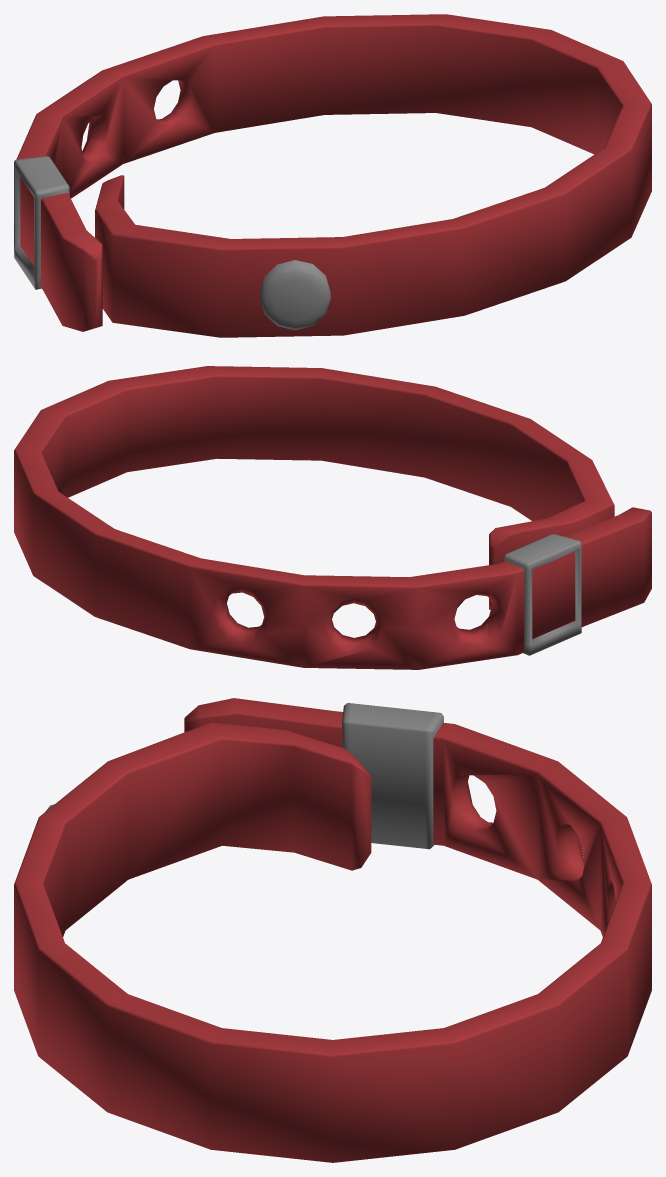
The model's file is collar.fbx.
3 renders of one model, top to bottom at view 1: azimuth 30°, elevation 25°; view 2: azimuth 150°, elevation 25°; view 3: azimuth 270°, elevation 25°, orthographic. The views are drawn at different scales.
Parts seen in each view (by area): view 1: collar; view 2: collar; view 3: collar.
Part boxes in pixels (x1,y1,x2,y2): collar: [14, 14, 651, 337]; collar: [14, 366, 651, 669]; collar: [14, 698, 651, 1162].
Bounding box in the file's own units: 207 × 32.14 × 156.
